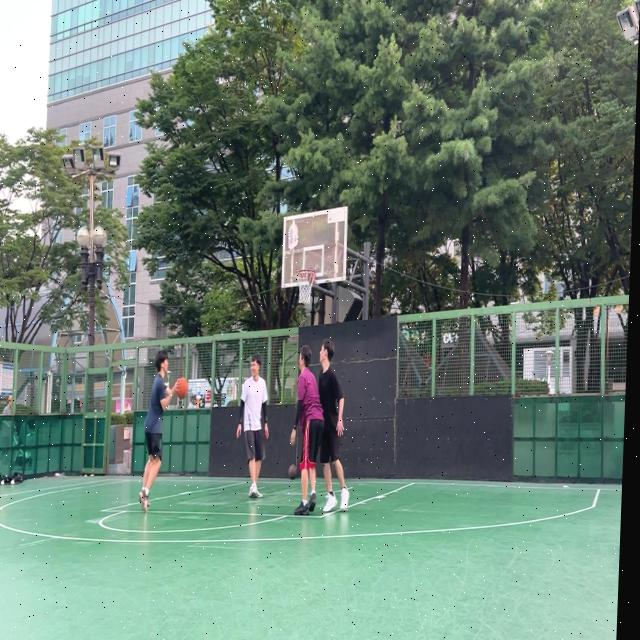basketball: (175, 376, 189, 399)
hoop: (295, 269, 316, 305)
